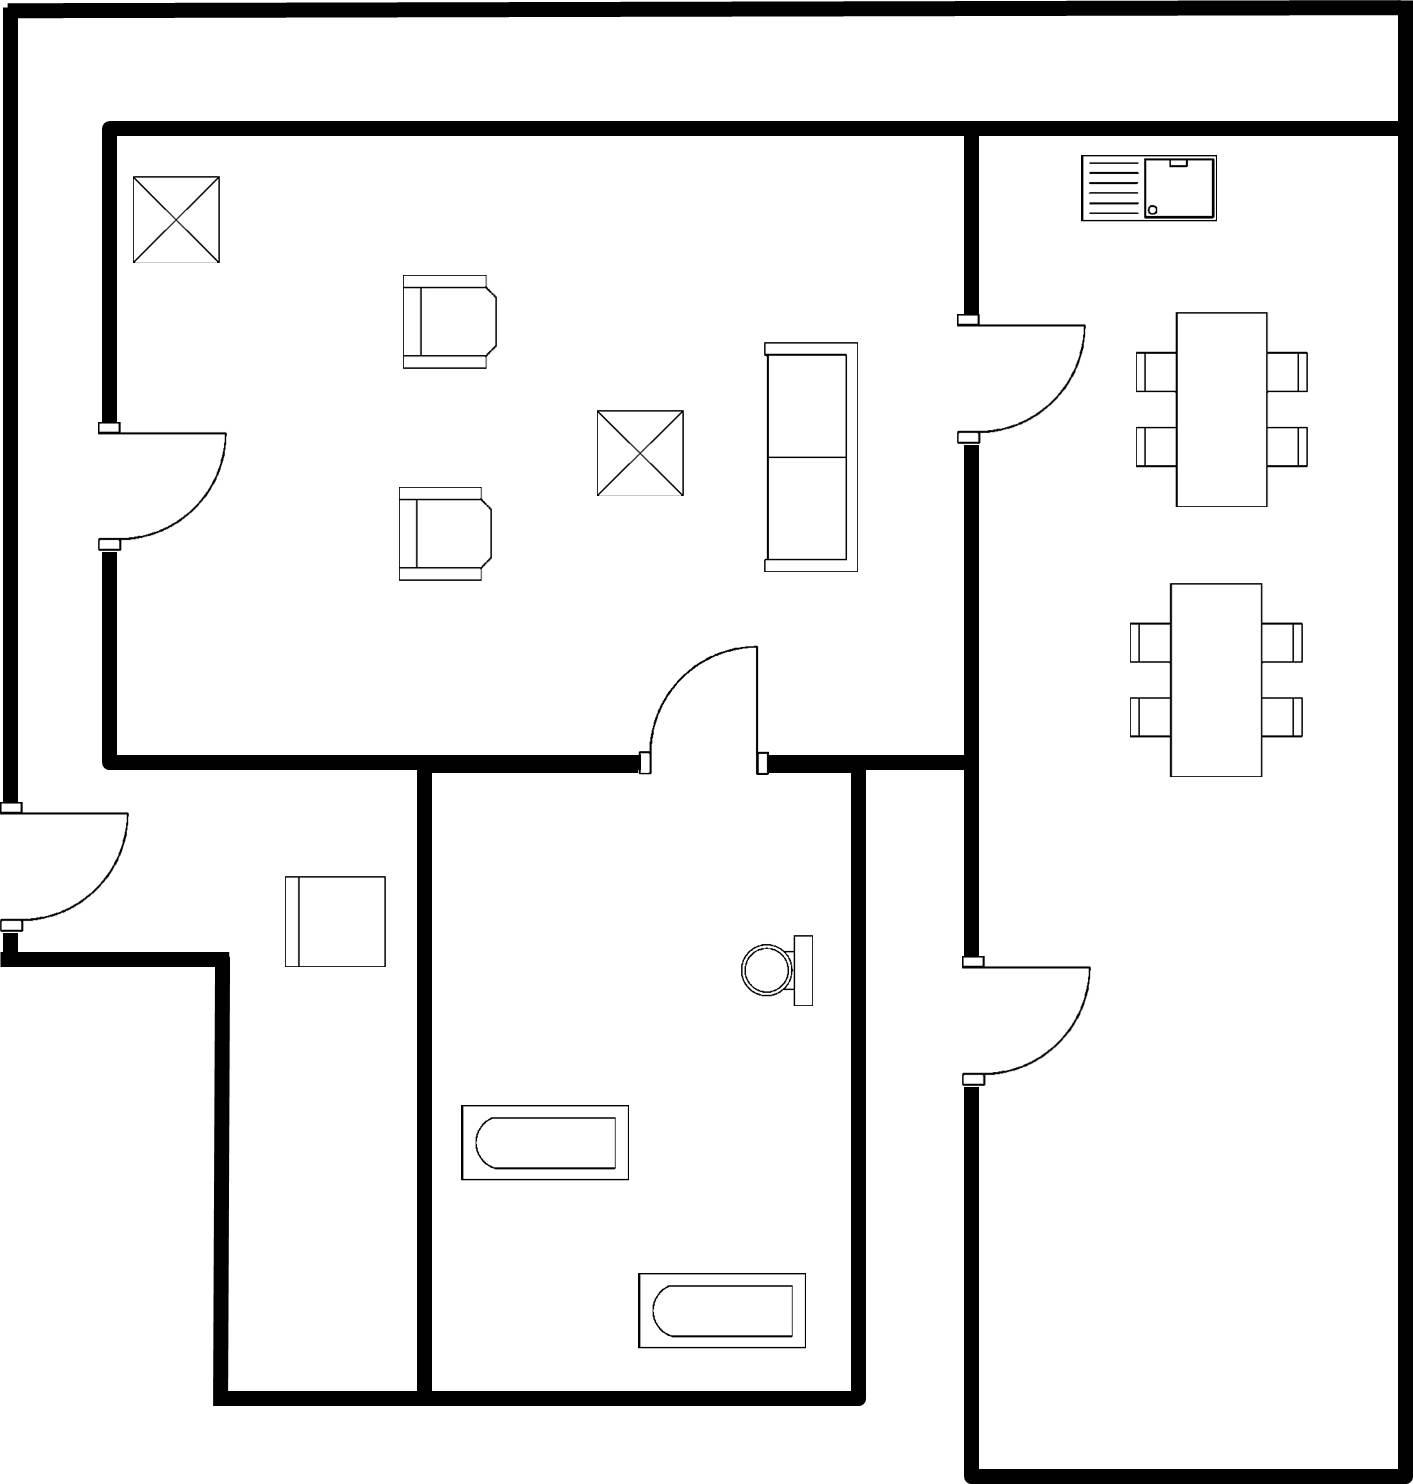dining_table: (1117, 571, 1322, 787), (1119, 299, 1320, 518)
sink: (1071, 147, 1227, 232)
sofa: (748, 329, 872, 584)
toilet: (732, 924, 820, 1016)
tub: (623, 1260, 814, 1363), (448, 1093, 640, 1192)
